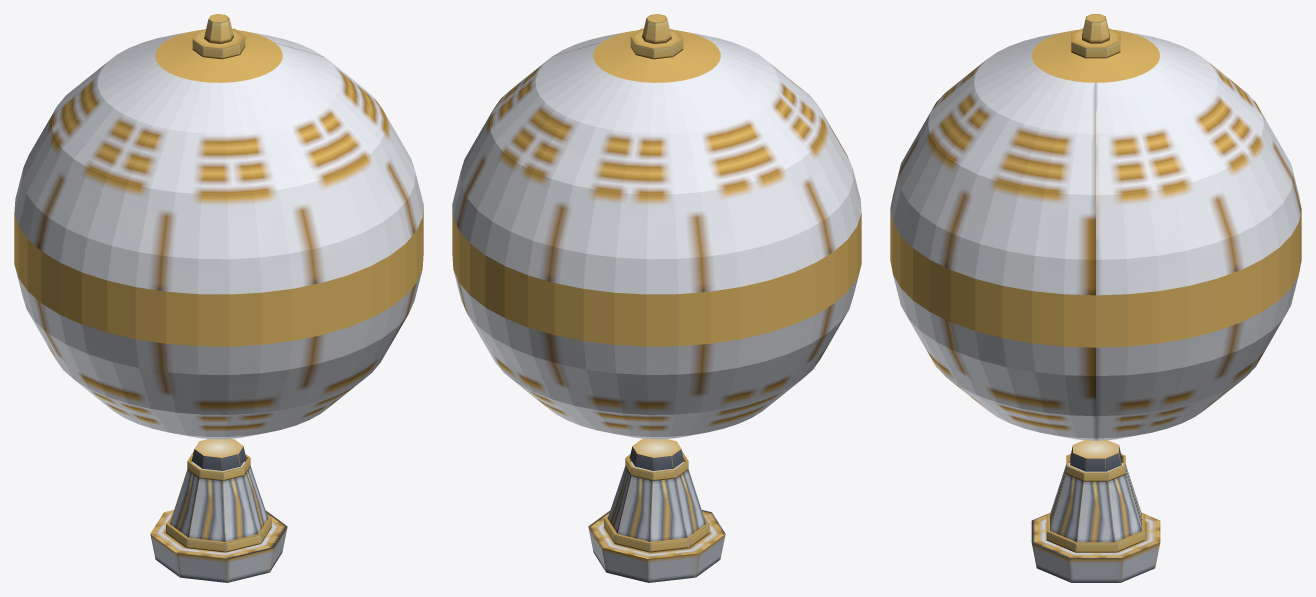
The model's file is astrolabe.obj.
3 renders of one model, left to right at view 1: azimuth 30°, elevation 25°; view 2: azimuth 150°, elevation 25°; view 3: azimuth 270°, elevation 25°, orthographic.
Visible parts, largest first — view 1: astrolabe; view 2: astrolabe; view 3: astrolabe.
Boxes of the visible parts, bbox=[...] form: astrolabe: bbox=[14, 14, 423, 582]; astrolabe: bbox=[452, 14, 861, 582]; astrolabe: bbox=[890, 14, 1301, 582].
Bounding box in the file's own units: 0.6886 × 0.9975 × 0.6886.
